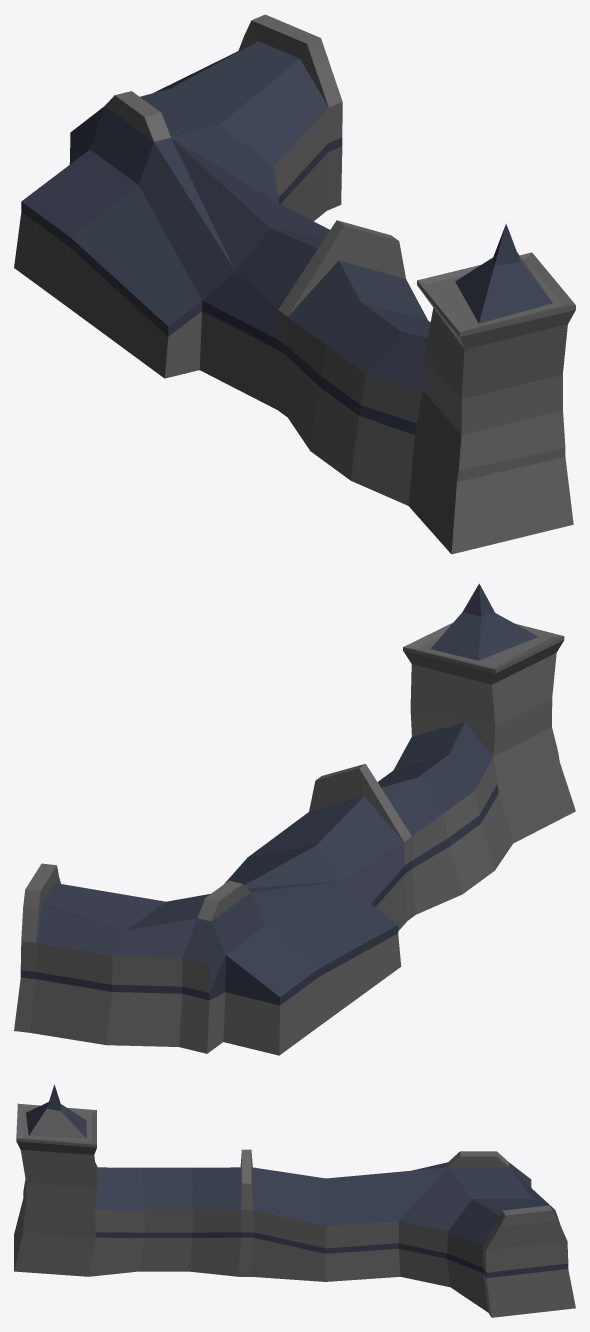
Rendered from p-bld-background-11.glb.
3 views of the same model, one above another, from view 1: azimuth 30°, elevation 25°; view 2: azimuth 150°, elevation 25°; view 3: azimuth 270°, elevation 25° (orthographic). The views are drawn at different scales.
Parts seen in each view (by area): view 1: Cube; view 2: Cube; view 3: Cube.
Boxes of the visible parts, x1,y1,x2,y2 form: Cube: (14,14,575,554); Cube: (14,583,575,1055); Cube: (14,1084,575,1317).
Size of the model in its own units: 18.18 by 16 by 46.06.
